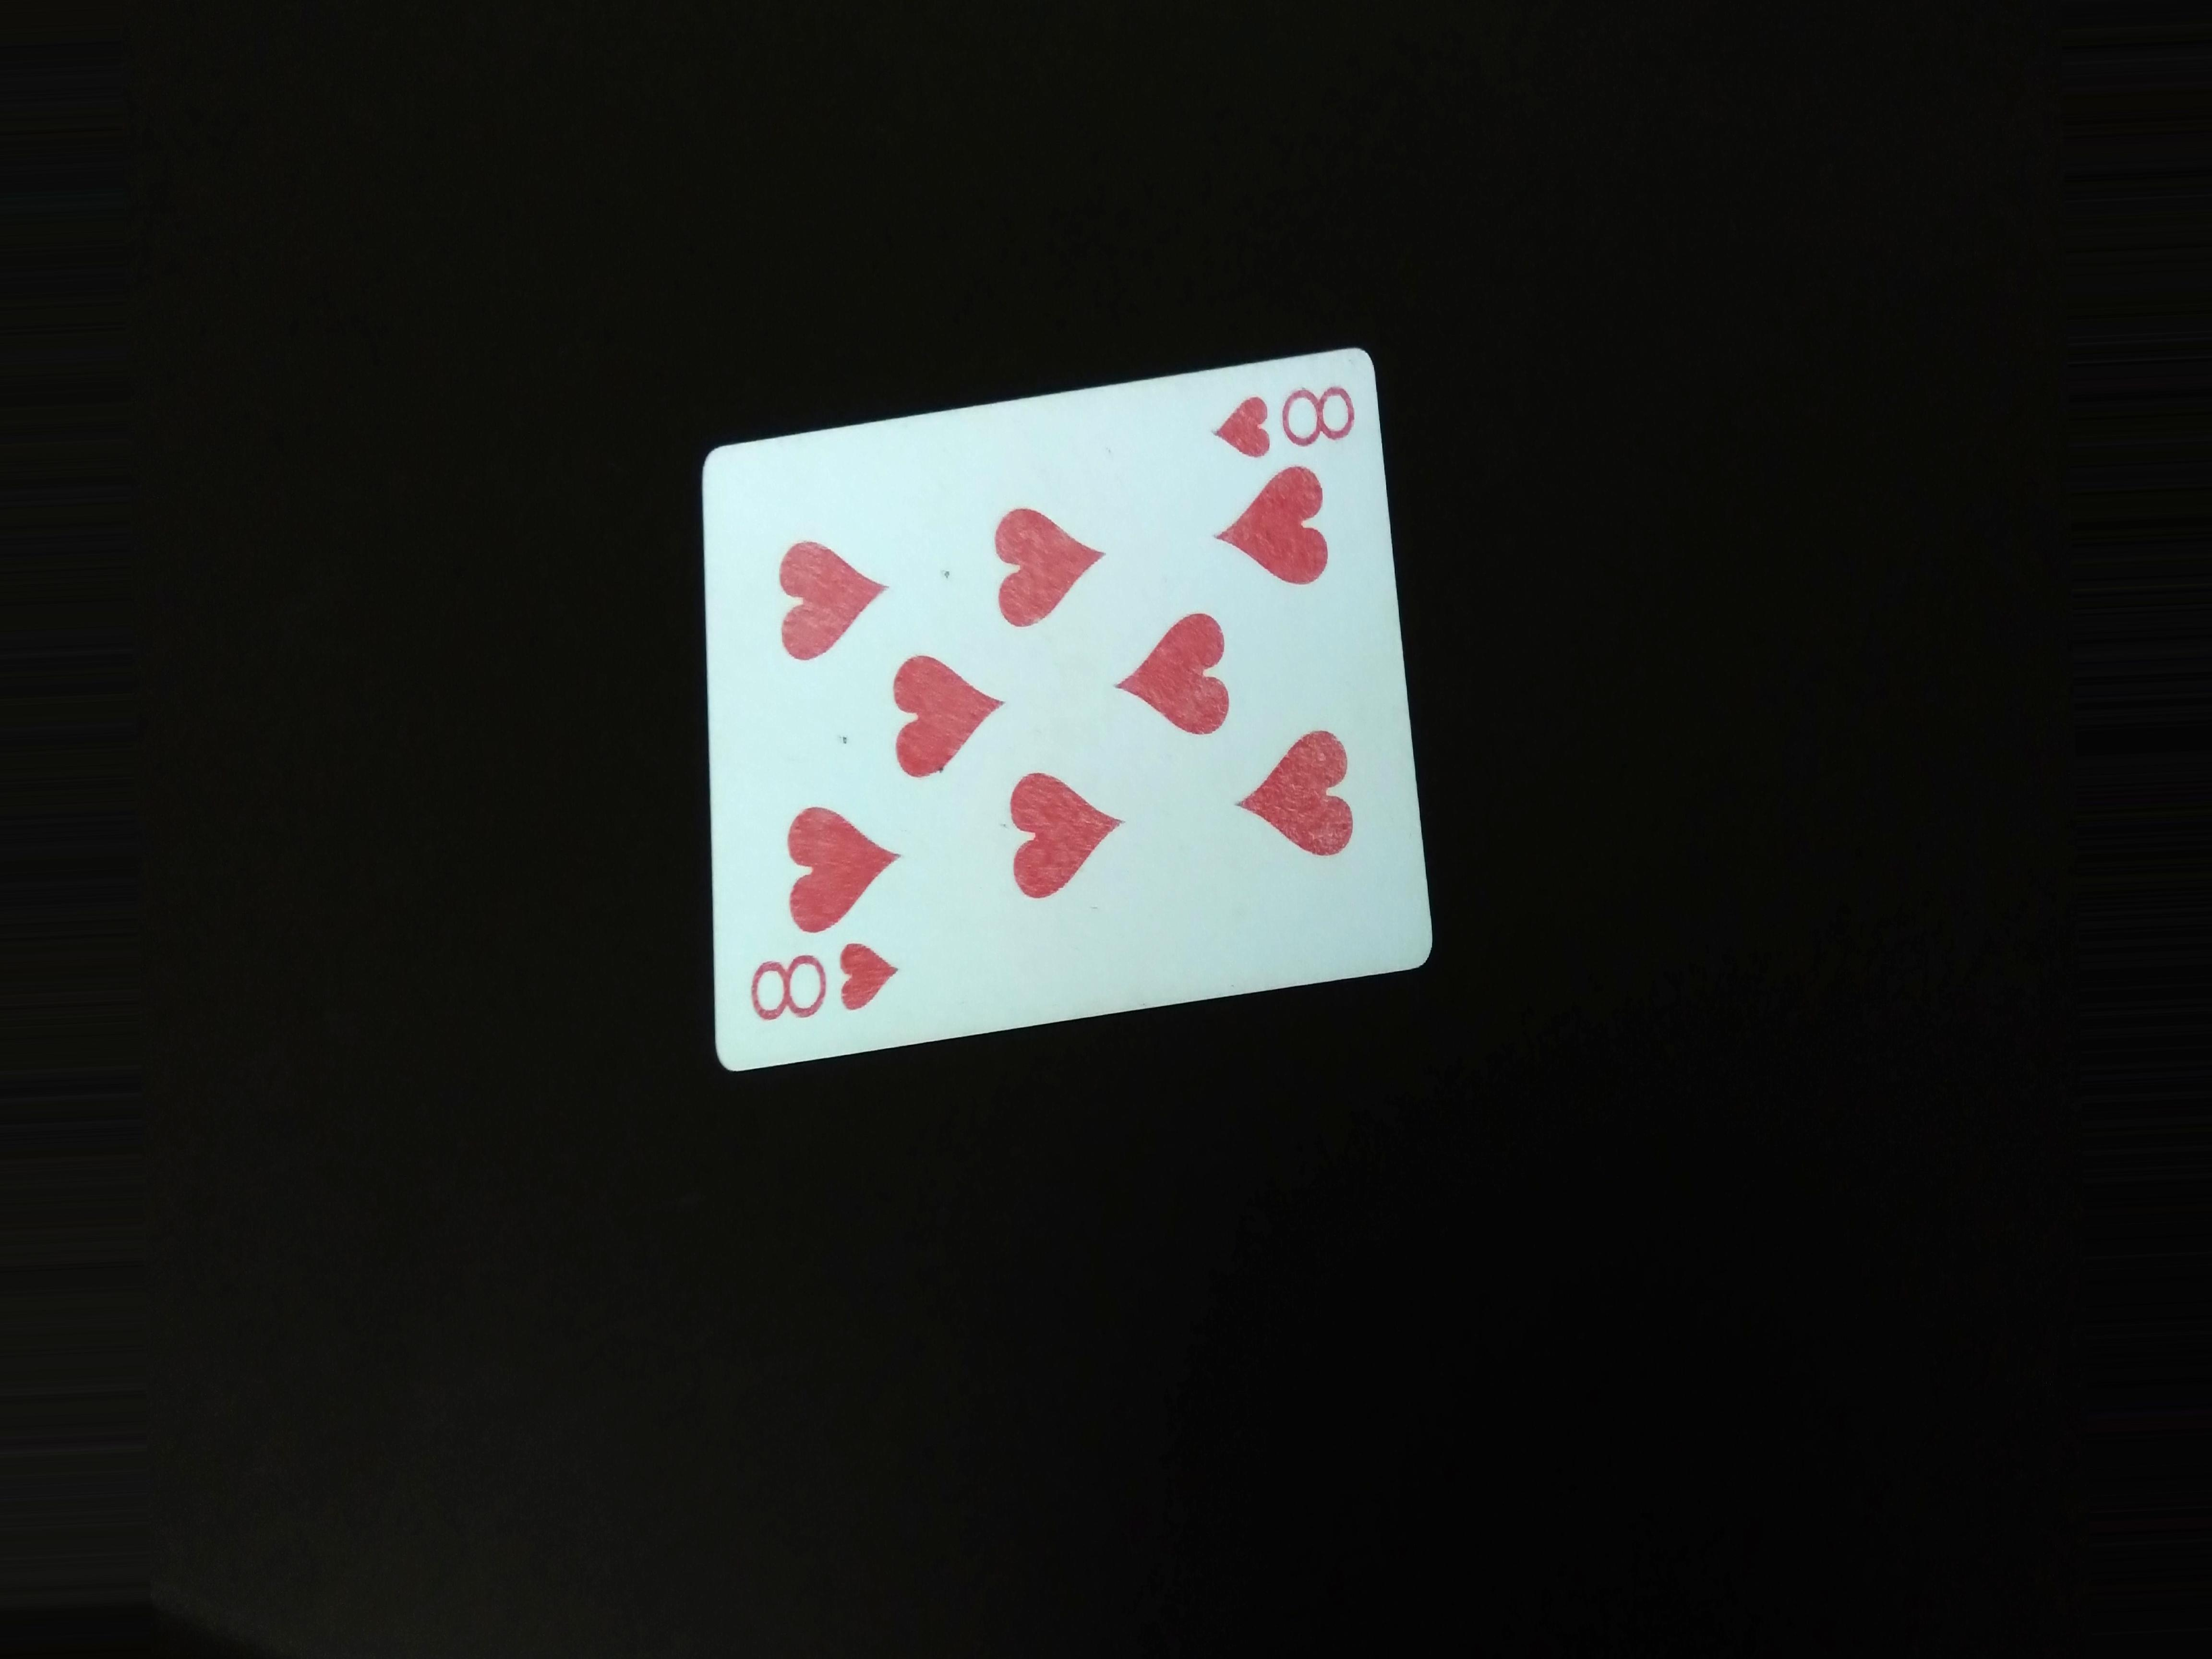8H: (719, 938, 928, 1026)
